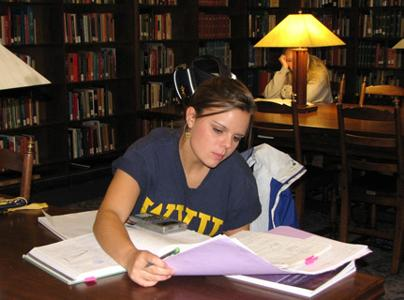person: (93, 77, 263, 289)
